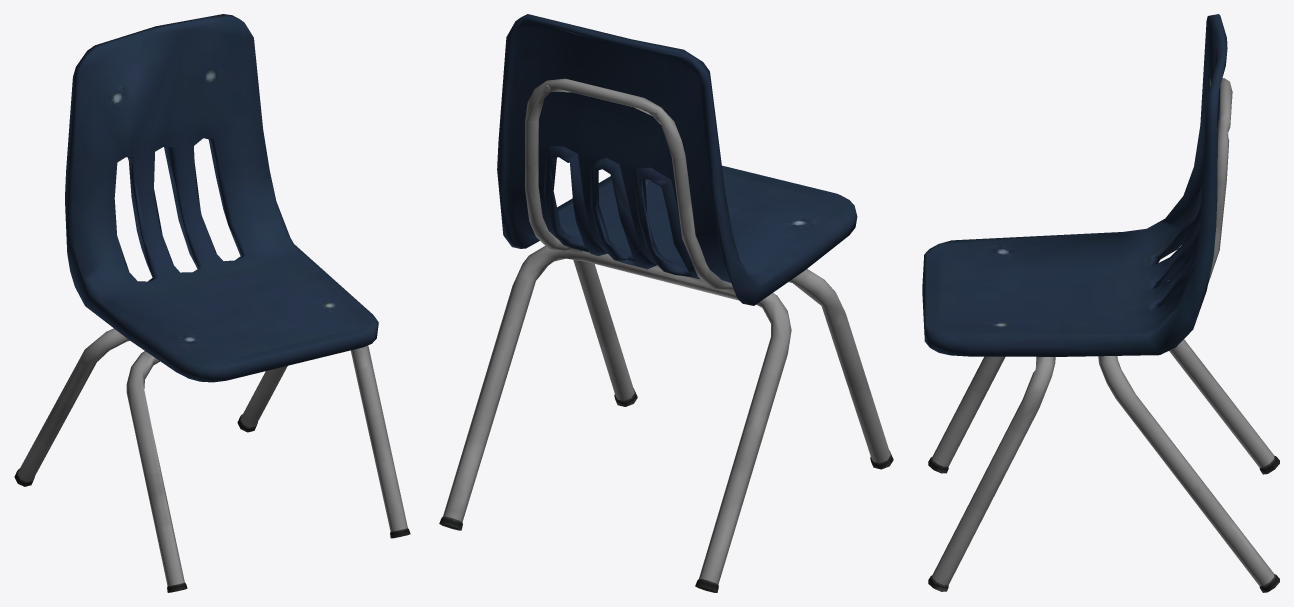
File: SchoolChair_01.glb
The picture shows the model from 3 angles, left to right: view 1: azimuth 30°, elevation 25°; view 2: azimuth 150°, elevation 25°; view 3: azimuth 270°, elevation 25°; orthographic projection. The views are drawn at different scales.
Visible parts, largest first — view 1: SchoolChair_01; view 2: SchoolChair_01; view 3: SchoolChair_01.
Part boxes in pixels (x1,y1,x2,y2): SchoolChair_01: (14, 14, 410, 592); SchoolChair_01: (439, 14, 893, 592); SchoolChair_01: (922, 14, 1279, 592).
Size of the model in its own units: 0.5659 by 1 by 0.673.
1 material, 1 textured.
